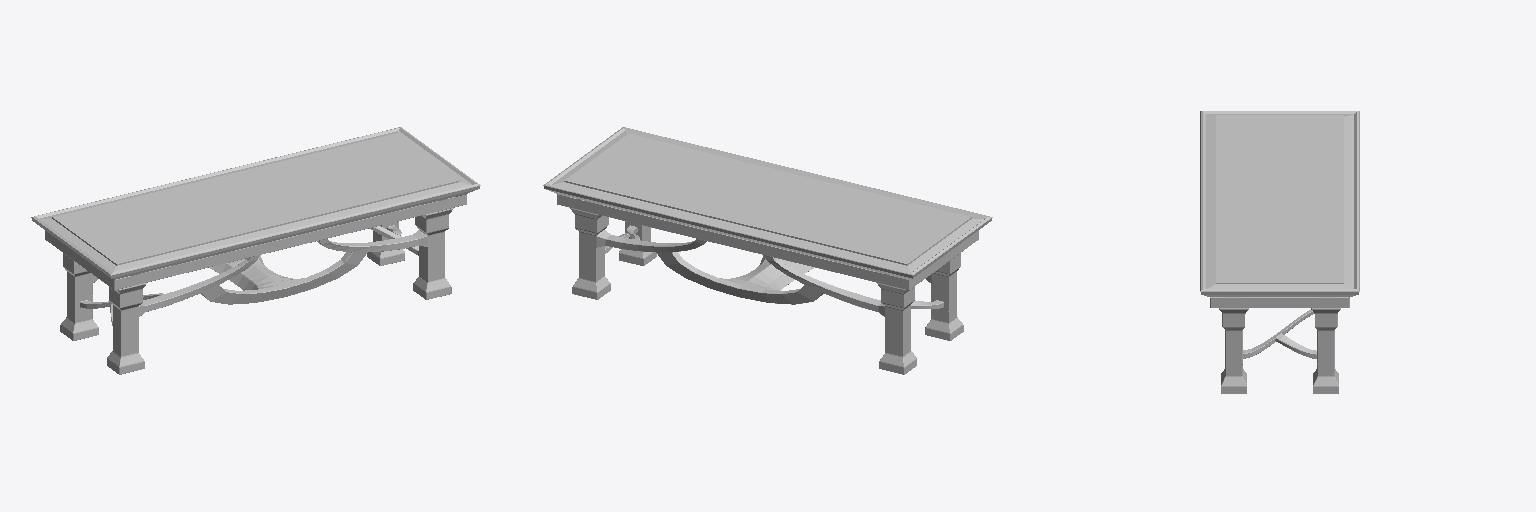
The model's file is Table.obj.
3 views of the same model, side by side, from view 1: azimuth 30°, elevation 25°; view 2: azimuth 150°, elevation 25°; view 3: azimuth 270°, elevation 25° (orthographic).
Parts seen in each view (by area): view 1: Mesh; view 2: Mesh; view 3: Mesh.
Part boxes in pixels (x1,y1,x2,y2): Mesh: (31, 127, 480, 374); Mesh: (543, 127, 992, 374); Mesh: (1200, 111, 1359, 393).
Size of the model in its own units: 0.4977 by 0.147 by 0.1857.